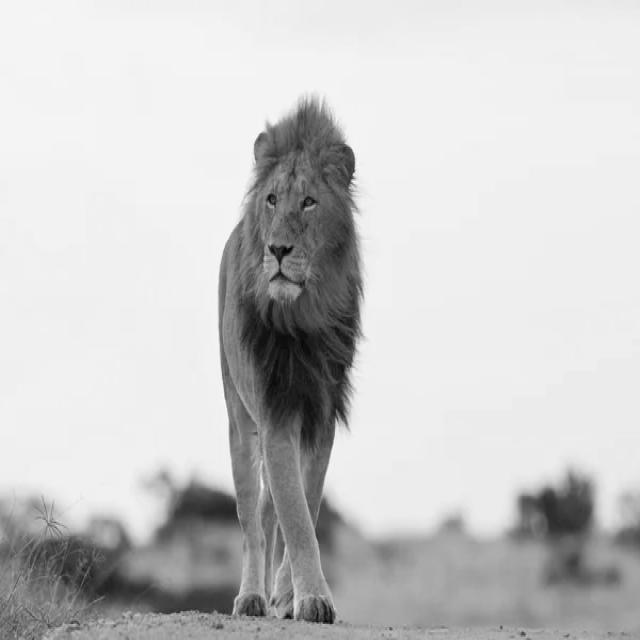Animal: (218, 99, 362, 623)
